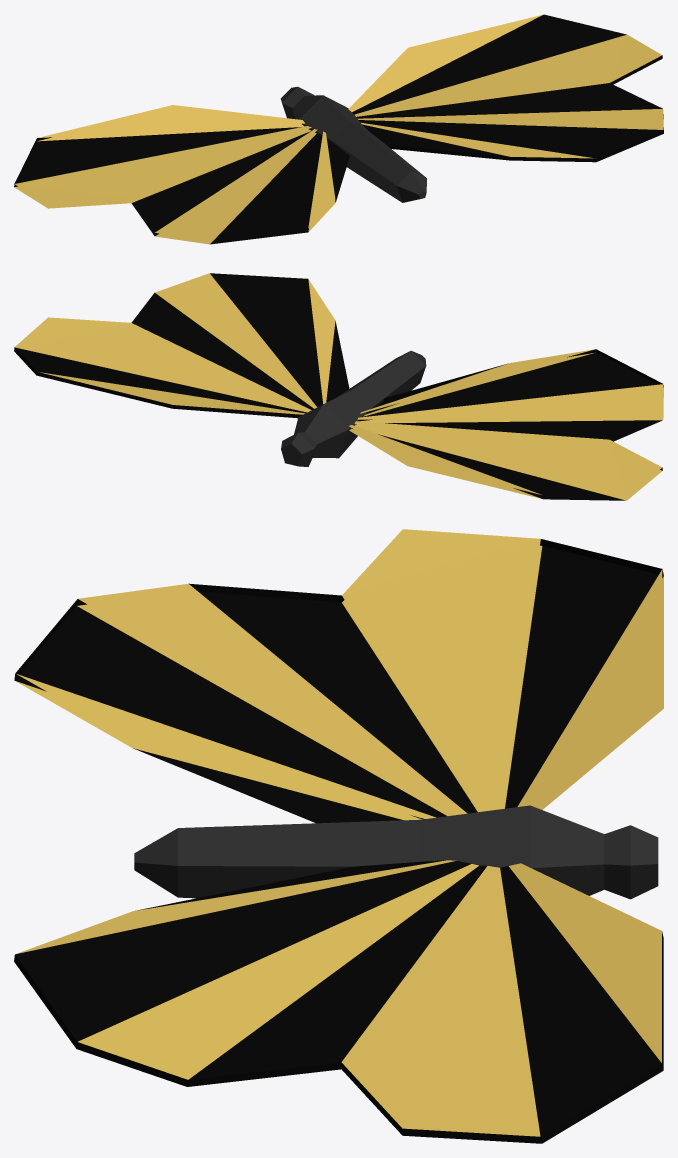
Rendered from butterfly.glb.
The picture shows the model from 3 angles, top to bottom: view 1: azimuth 30°, elevation 25°; view 2: azimuth 150°, elevation 25°; view 3: azimuth 270°, elevation 25°; orthographic projection. The views are drawn at different scales.
Parts seen in each view (by area): view 1: Cube.001, Cube, Cylinder; view 2: Cube.001, Cube, Cylinder; view 3: Cube, Cube.001, Cylinder.
Boxes of the visible parts, x1,y1,x2,y2 form: Cube.001: (348,14,663,162); Cube: (14,105,349,244); Cylinder: (280,86,426,202); Cube.001: (14,273,349,418); Cube: (349,349,663,500); Cylinder: (281,350,426,466); Cube: (14,529,663,823); Cube.001: (14,860,663,1143); Cylinder: (134,805,658,899).
Size of the model in its own units: 1.34 by 0.1045 by 0.6141.
